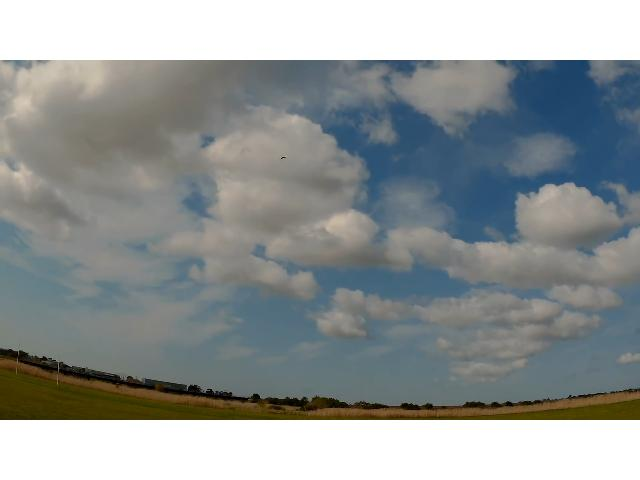Anti-Drone: (268, 152, 296, 166)
